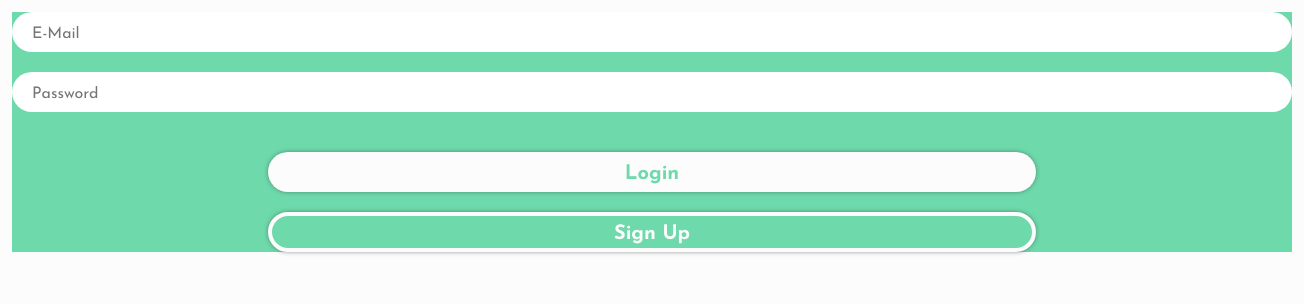
Test: LoginForm › shows a warning text because of invalid password
This screenshot has width=1304, height=304.
Type "admin@admin.com" into the field with placeholder "E-Mail" at (652, 32), box [12,12,1292,52]
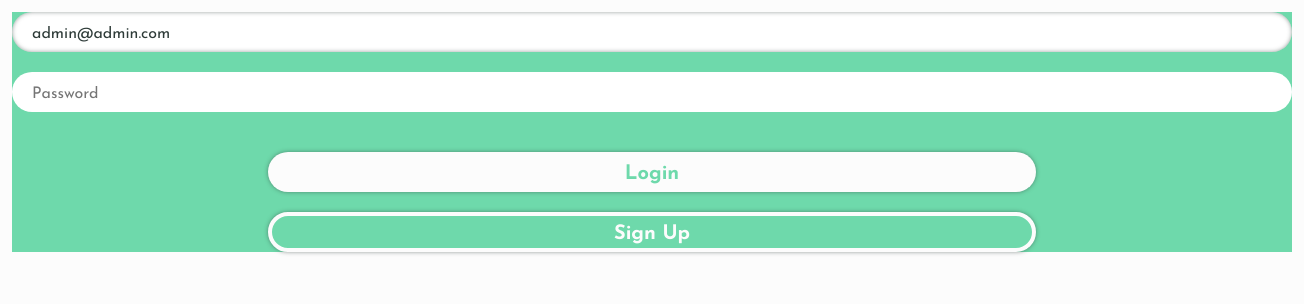
Type "admin" into the password field with placeholder "Password" at (652, 92), box [12,72,1292,112]
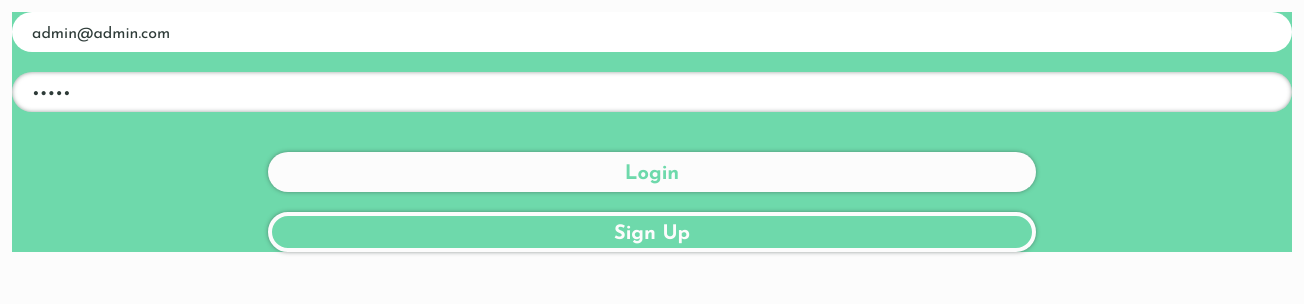
Click the button "Sign Up" at (652, 232), box [268,212,1036,252]
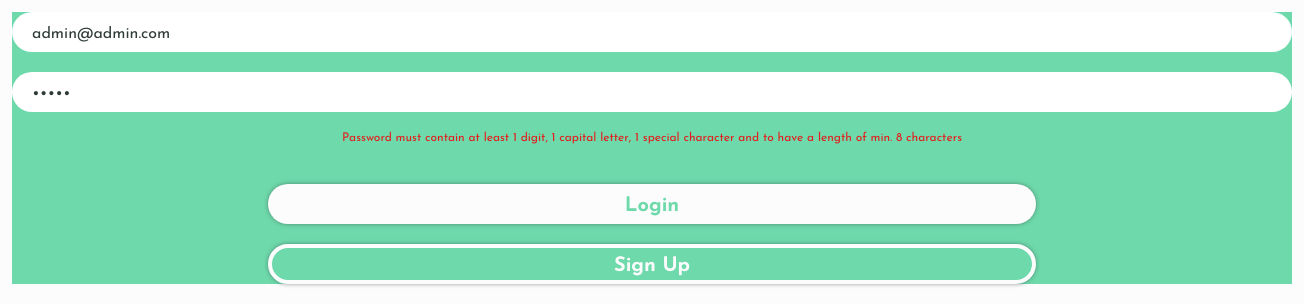
expect the text "Password must contain at least 1 digit, 1 capital letter, 1 special character and to have a length of min. 8 characters" is shown: met, box [342,132,962,144]
